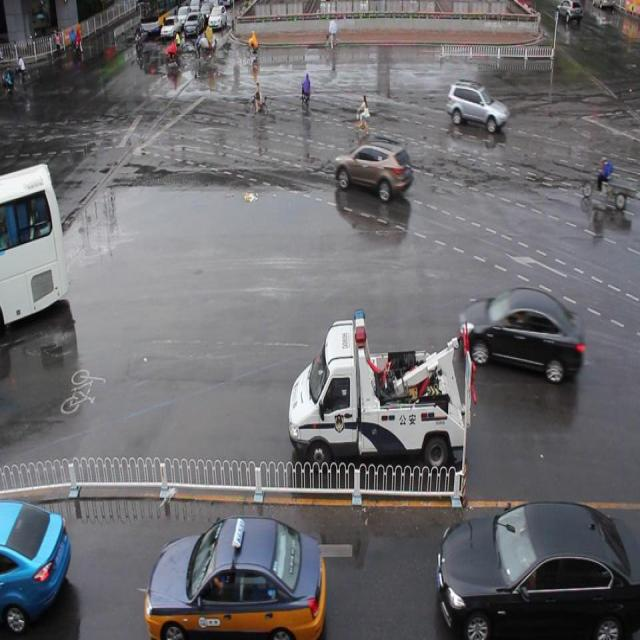bus: (289, 309, 476, 476)
car: (435, 501, 640, 640), (144, 515, 326, 640), (458, 285, 584, 385), (1, 494, 72, 640), (334, 136, 412, 203), (445, 78, 507, 133)
van: (1, 160, 70, 329)
